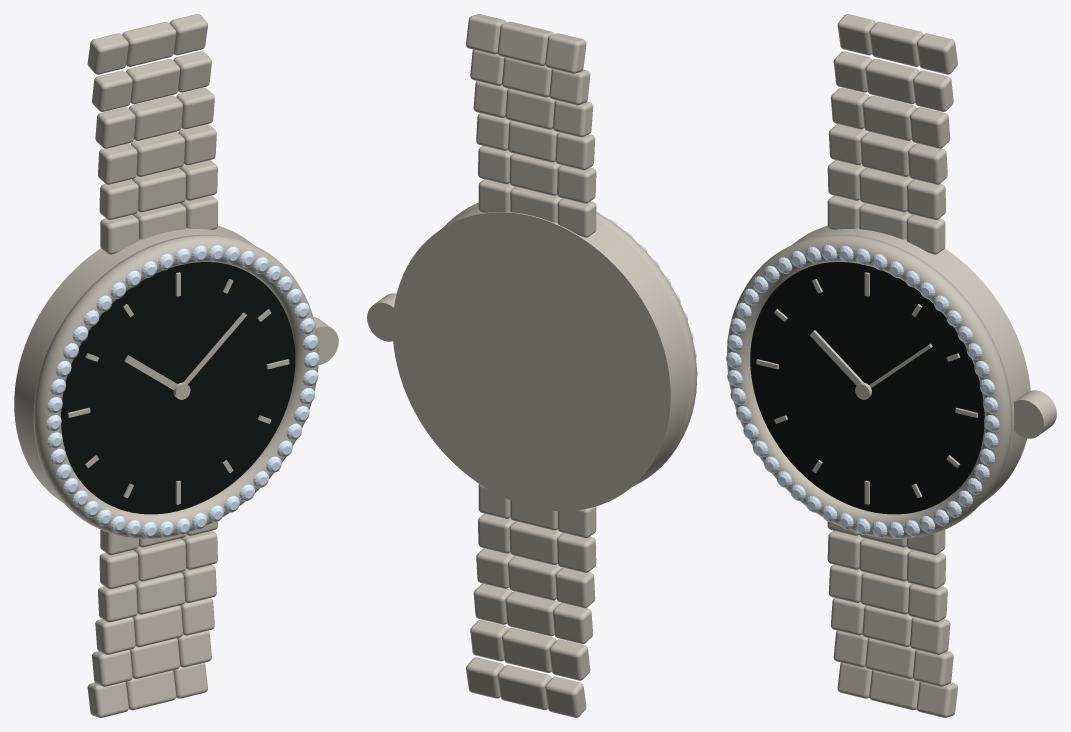
Rendered from watch.glb.
3 renders of one model, left to right at view 1: azimuth 30°, elevation 25°; view 2: azimuth 150°, elevation 25°; view 3: azimuth 330°, elevation 25°, orthographic.
Visible parts, largest first — view 1: Case and dial, Illustrative stone-set bezel; view 2: Case and dial; view 3: Case and dial, Illustrative stone-set bezel.
Part boxes in pixels (x1,y1,x2,y2): Case and dial: (14, 14, 338, 717); Illustrative stone-set bezel: (46, 245, 319, 538); Case and dial: (367, 14, 696, 717); Case and dial: (727, 14, 1056, 717); Illustrative stone-set bezel: (726, 245, 999, 538).
Size of the model in its own units: 2.74 by 5.71 by 0.6673.
